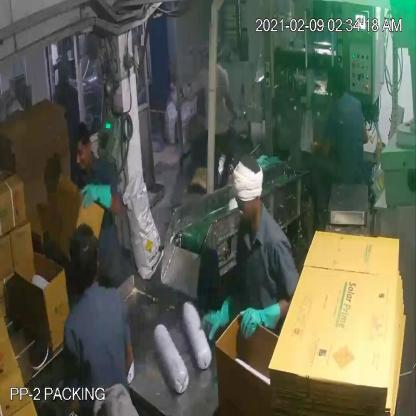glove: (234, 295, 285, 348), (195, 292, 247, 338), (80, 181, 123, 222)
